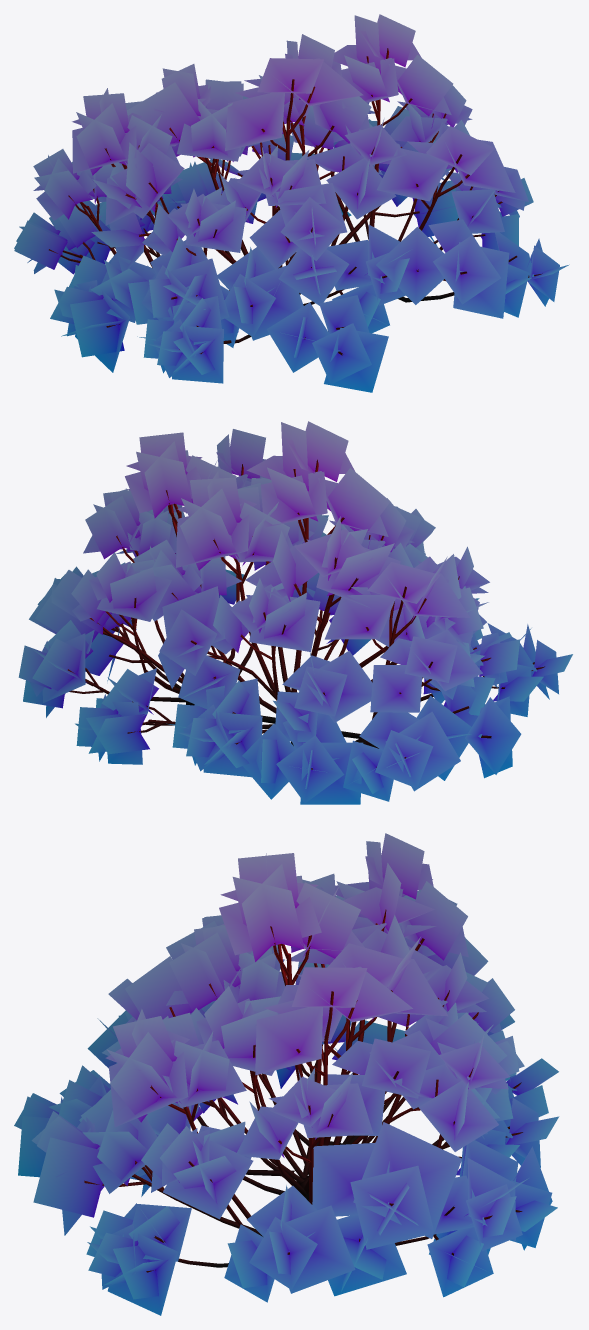
Rendered from SM_Env_Bush_Tropical_02.glb.
3 views of the same model, one above another, from view 1: azimuth 30°, elevation 25°; view 2: azimuth 150°, elevation 25°; view 3: azimuth 270°, elevation 25° (orthographic). The views are drawn at different scales.
Parts seen in each view (by area): view 1: SM_Env_Bush_Tropical_02_LOD0; view 2: SM_Env_Bush_Tropical_02_LOD0; view 3: SM_Env_Bush_Tropical_02_LOD0.
Part boxes in pixels (x1=…): SM_Env_Bush_Tropical_02_LOD0: x1=14, y1=14, x2=569, y2=392; SM_Env_Bush_Tropical_02_LOD0: x1=18, y1=421, x2=572, y2=804; SM_Env_Bush_Tropical_02_LOD0: x1=14, y1=833, x2=559, y2=1315.
Size of what is drawn, in the model's own units: 3.58 by 2.11 by 3.04.
